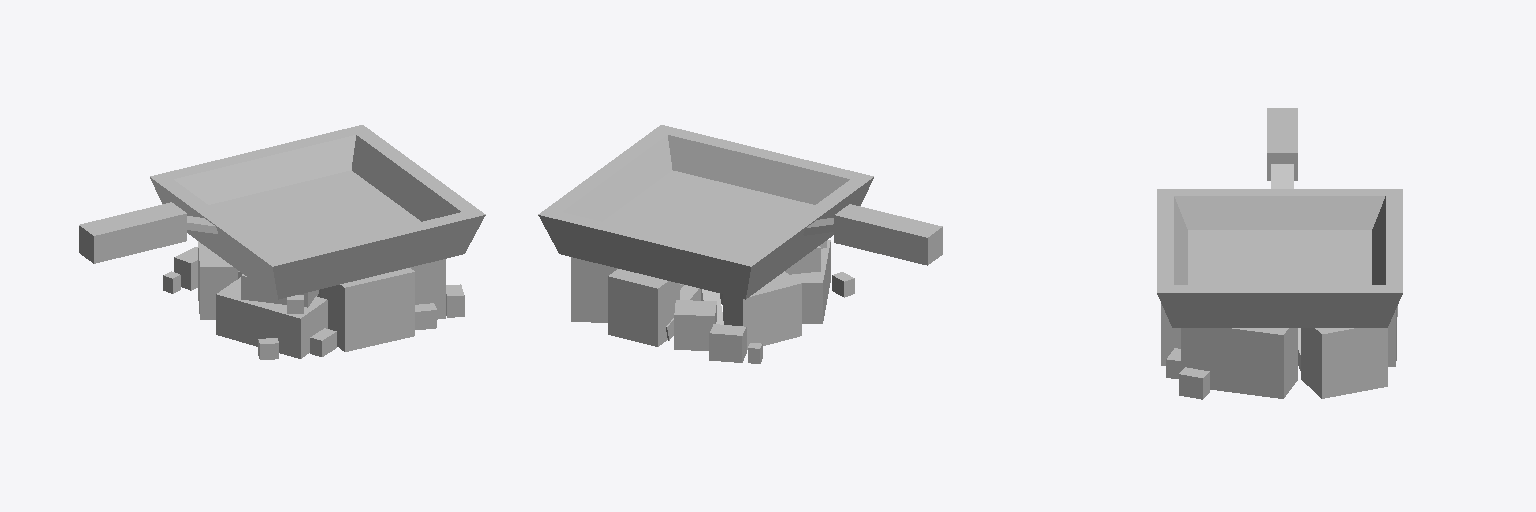
The model's file is fire_pit_with_wok.obj.
3 views of the same model, side by side, from view 1: azimuth 30°, elevation 25°; view 2: azimuth 150°, elevation 25°; view 3: azimuth 270°, elevation 25° (orthographic).
Visible parts, largest first — view 1: Box061, Box007, Box062; view 2: Box061, Box007, Box062; view 3: Box061, Box007, Box062, Box063.
Boxes of the visible parts, x1=… form: Box061: x1=150, y1=125, x2=485, y2=299; Box007: x1=163, y1=241, x2=464, y2=359; Box062: x1=79, y1=202, x2=186, y2=263; Box061: x1=538, y1=125, x2=873, y2=299; Box007: x1=571, y1=240, x2=854, y2=363; Box062: x1=834, y1=204, x2=942, y2=265; Box061: x1=1157, y1=189, x2=1402, y2=327; Box007: x1=1161, y1=304, x2=1397, y2=399; Box062: x1=1267, y1=108, x2=1297, y2=180; Box063: x1=1271, y1=164, x2=1293, y2=188.
Bounding box in the file's own units: 1.57 × 0.5849 × 0.9934.